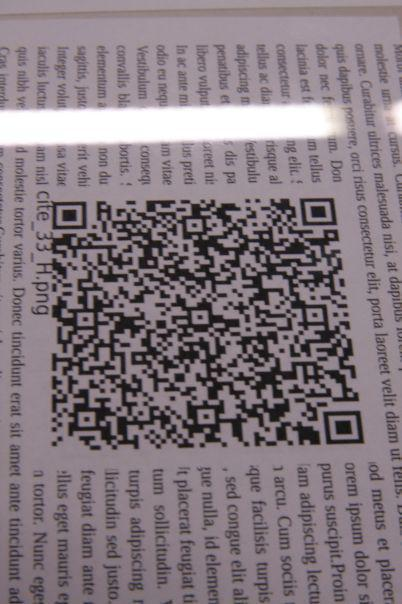qr_code: (51, 198, 364, 451)
